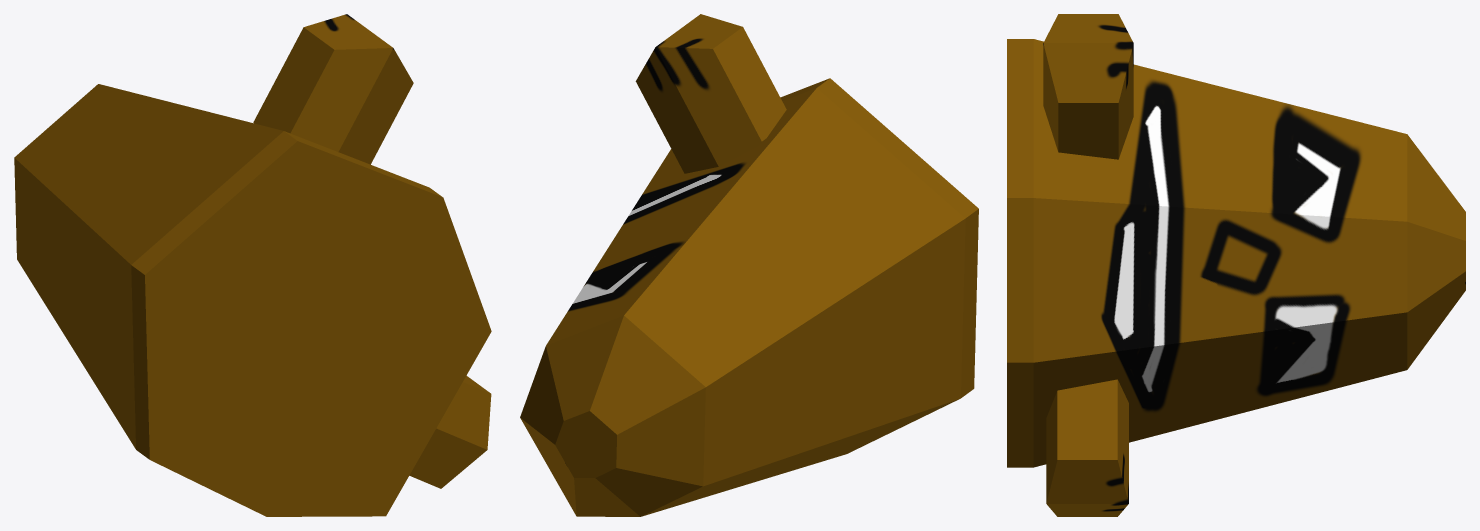
Rendered from Mole.fbx.
3 renders of one model, left to right at view 1: azimuth 30°, elevation 25°; view 2: azimuth 150°, elevation 25°; view 3: azimuth 270°, elevation 25°, orthographic. The views are drawn at different scales.
Parts seen in each view (by area): view 1: Cube.002; view 2: Cube.002; view 3: Cube.002.
Boxes of the visible parts, x1,y1,x2,y2 form: Cube.002: (14,14,491,516); Cube.002: (520,14,978,516); Cube.002: (1007,14,1465,516).
Bounding box in the file's own units: 140 × 166 × 153.
